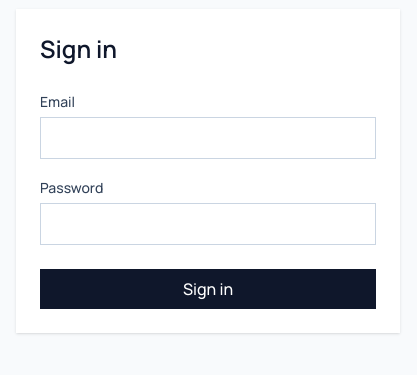
Test case: LoginPage › surfaces the API's message when the credentials are rejected
The image size is (417, 375).
In the field labelled "Email": [208, 138] box x1=40 y1=117 x2=376 y2=159, type "admin@example.com"
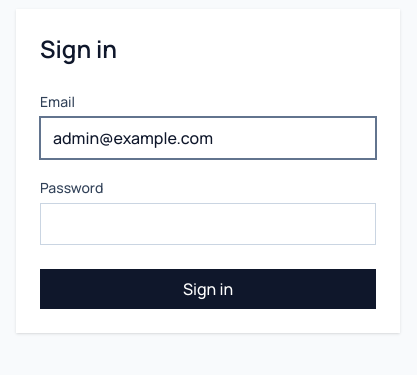
In the password field labelled "Password": [208, 224] box x1=40 y1=203 x2=376 y2=245, type "password123"
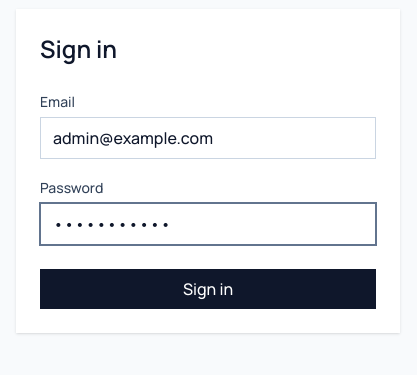
Click the button "Sign in": [208, 289] box x1=40 y1=269 x2=376 y2=309
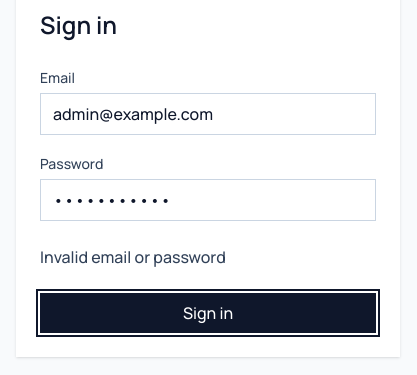
Expected: the text "Invalid email or password" is shown, x1=40 y1=246 x2=226 y2=268
